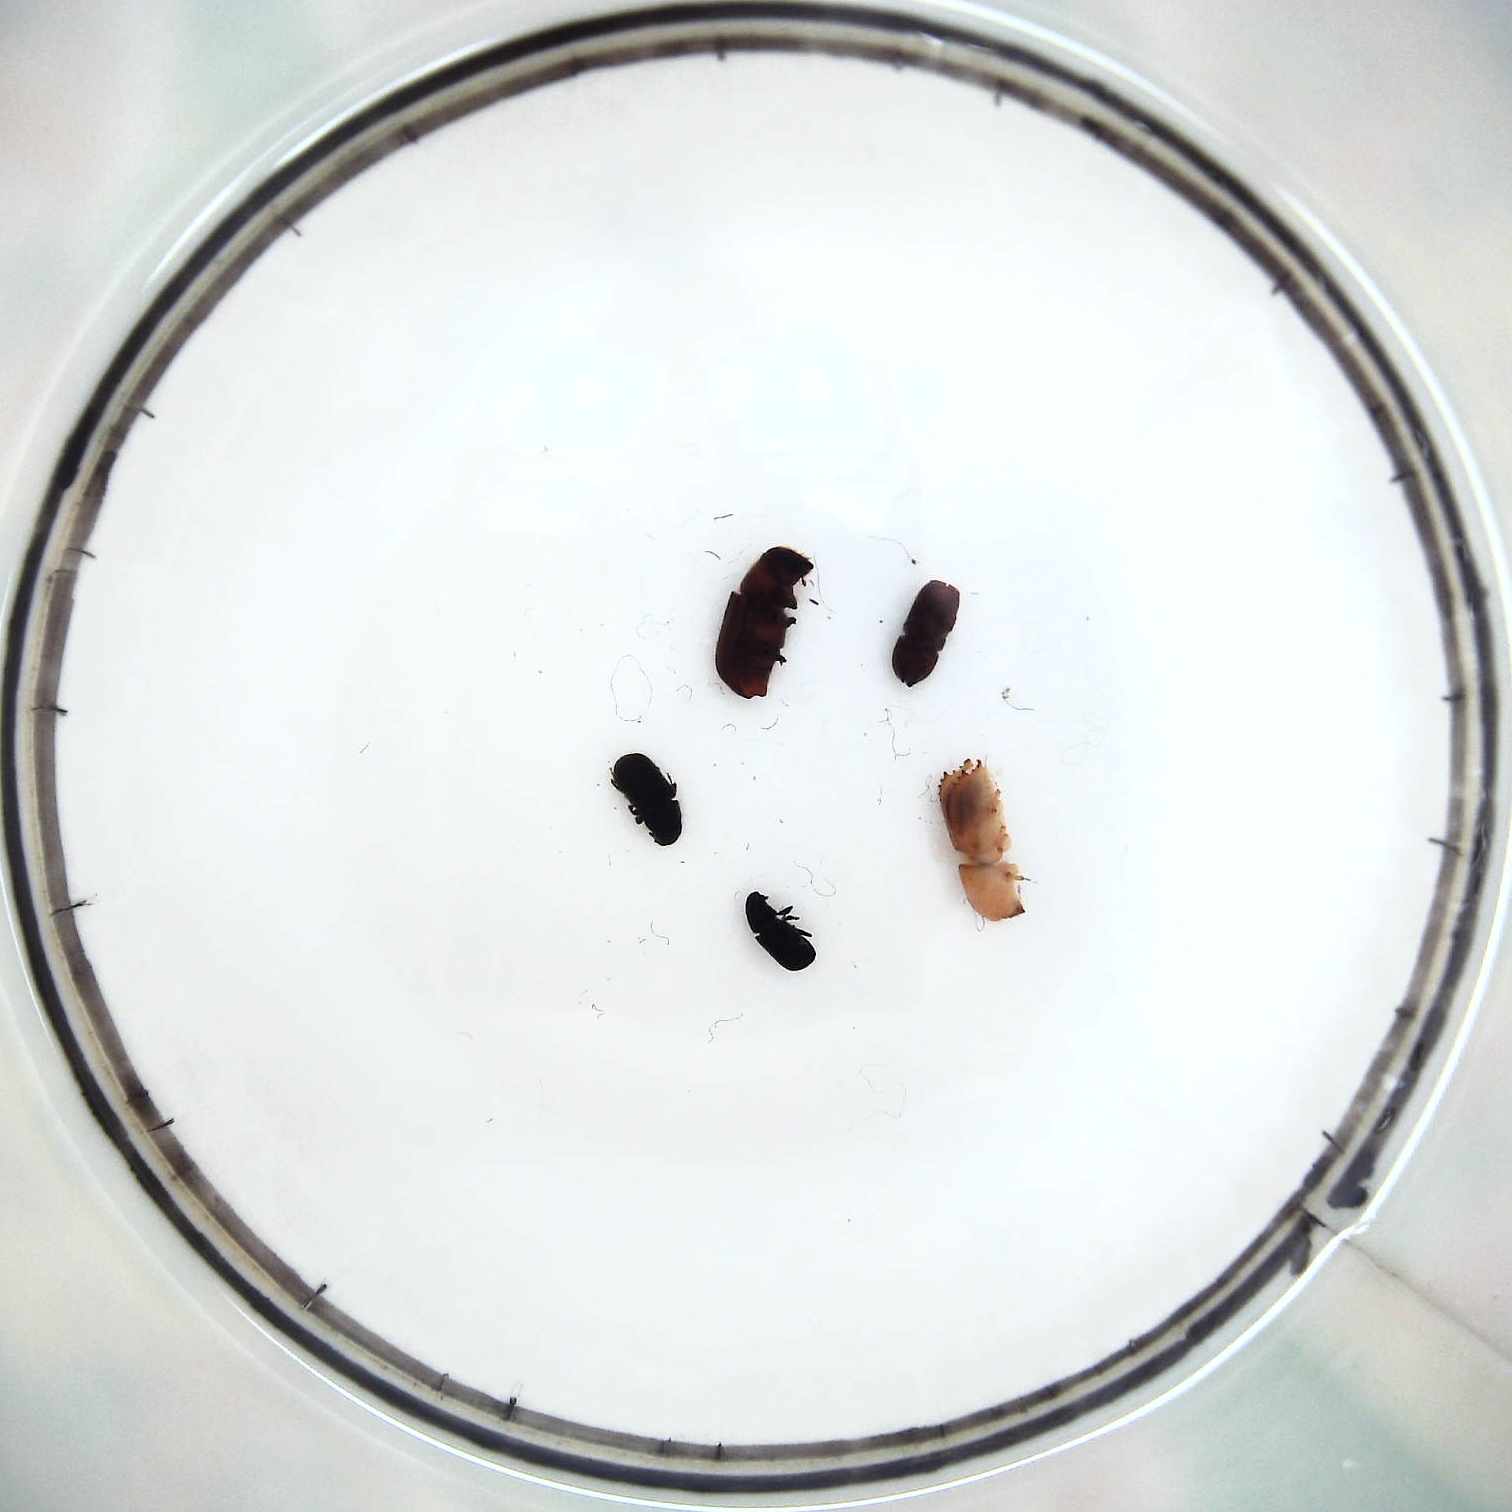Boerner: (935, 755, 1026, 919)
Leconte: (712, 546, 807, 701)
Linnaeus: (889, 579, 957, 687)
armandi: (611, 749, 685, 847)
coleoptera: (739, 885, 818, 975)
